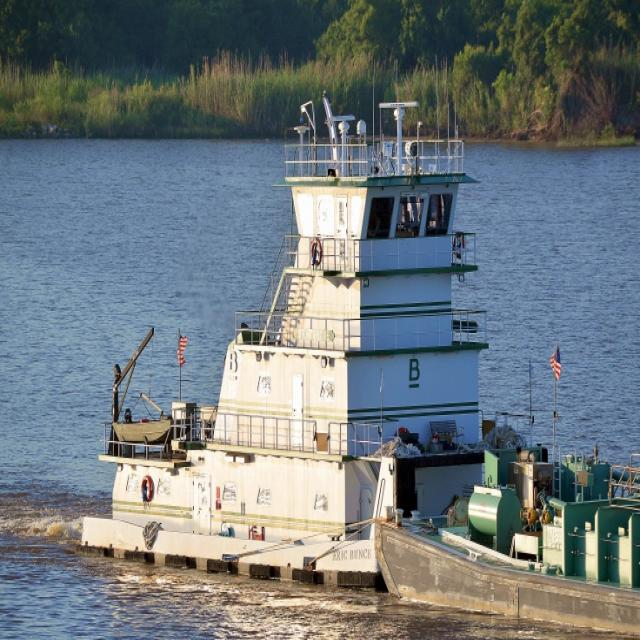tugboat: (72, 88, 555, 611)
